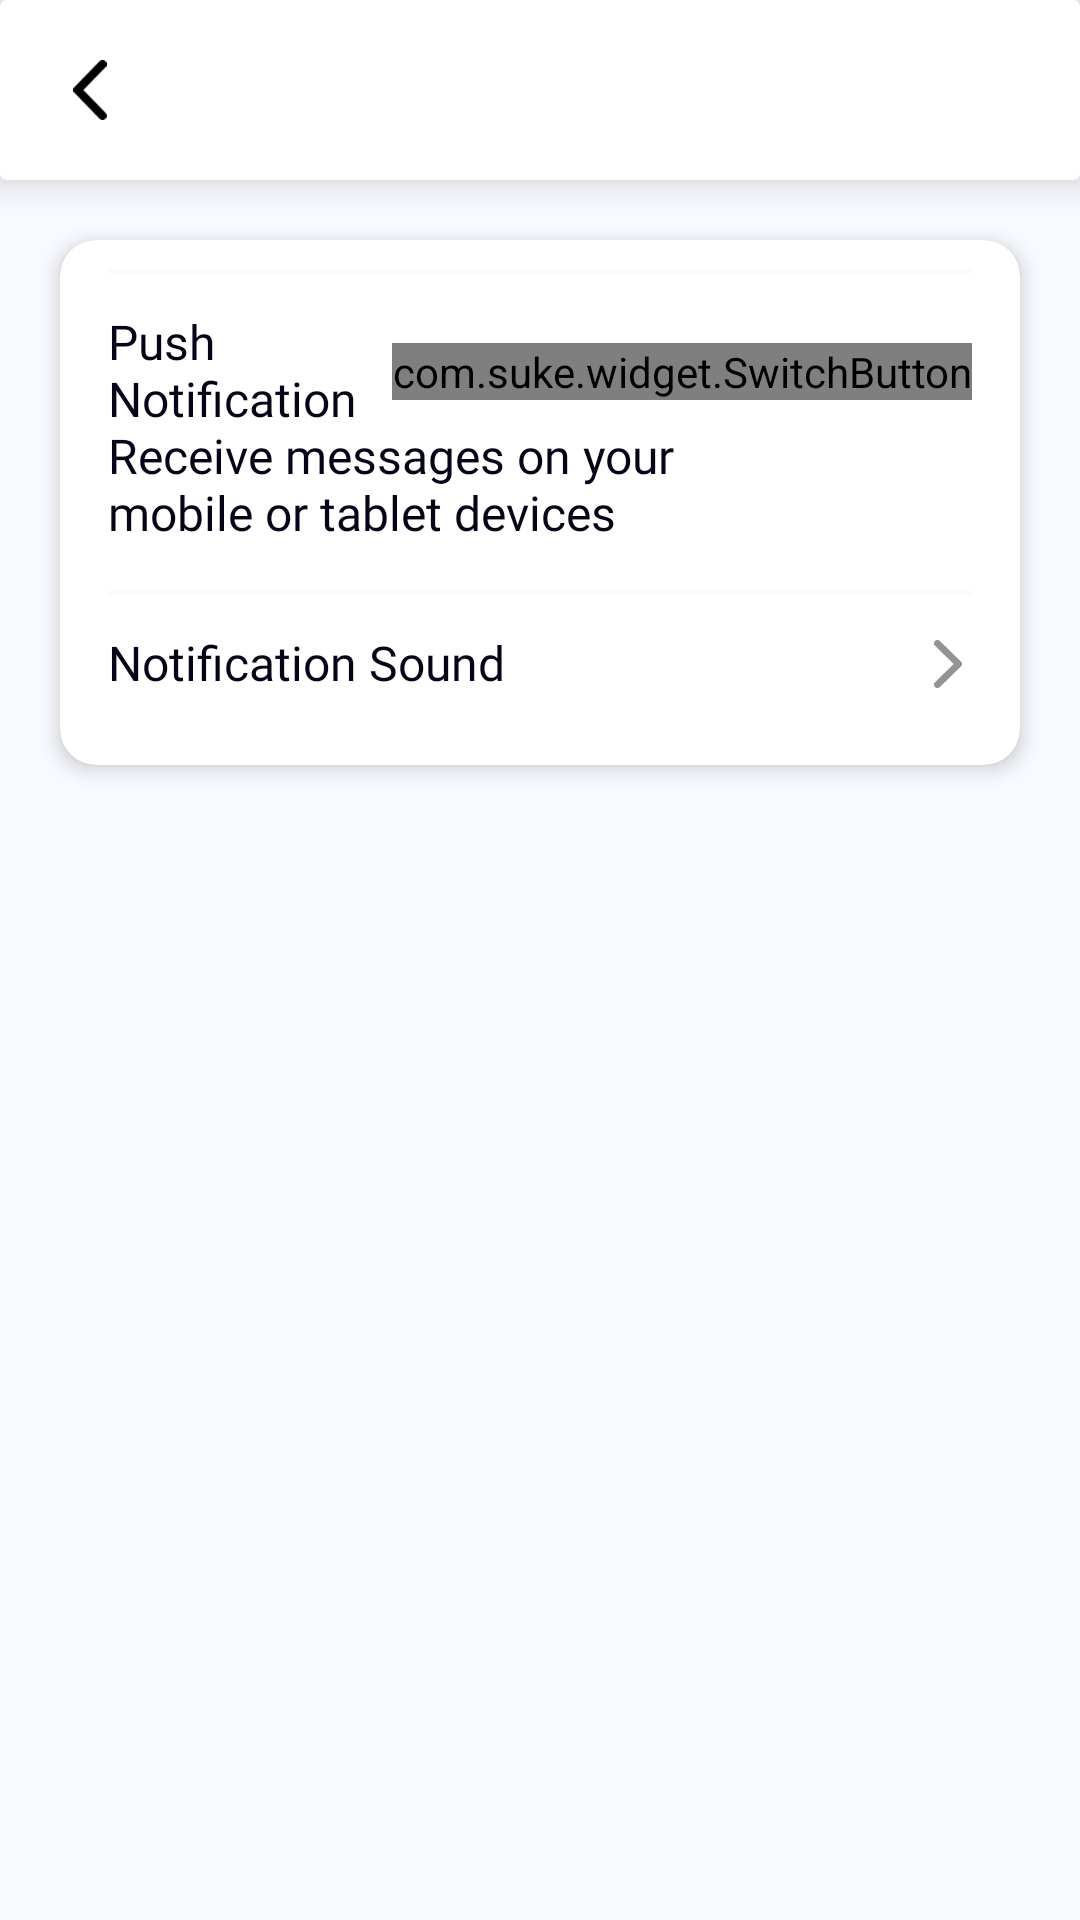

Named icons in this screenshot (1080w x 1920h) and their bounding boxes, detection(x1, y1, x2, y2):
arrow right: detection(934, 640, 962, 688)
back: detection(73, 60, 107, 120)
